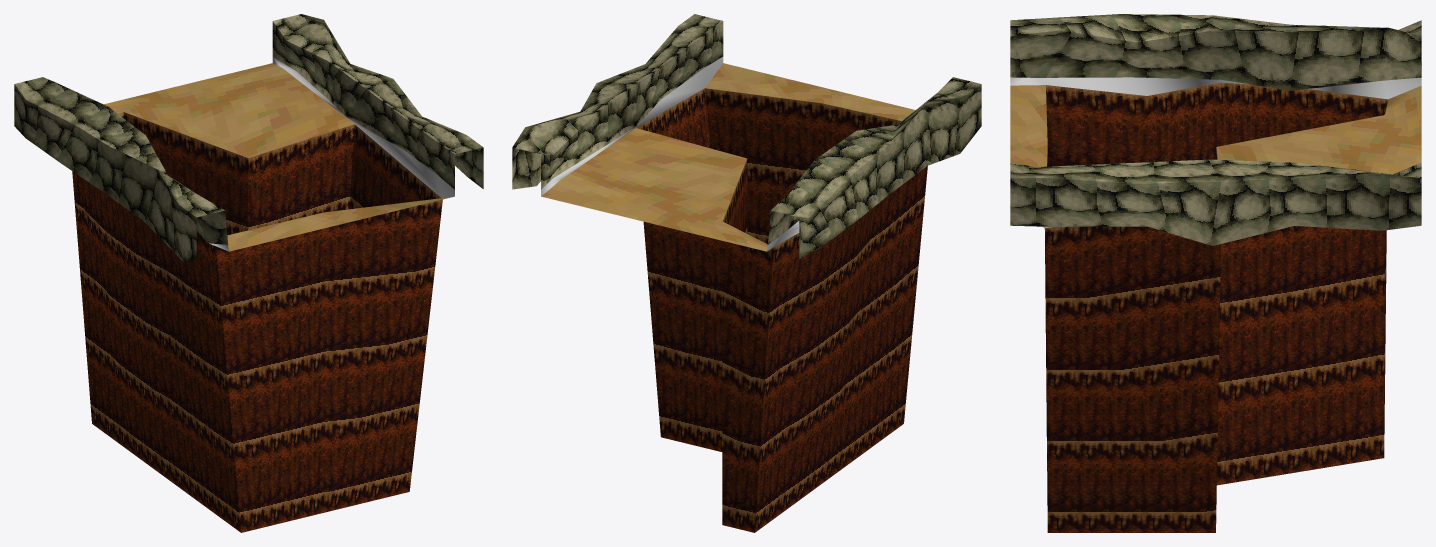
3 views of the same model, side by side, from view 1: azimuth 30°, elevation 25°; view 2: azimuth 150°, elevation 25°; view 3: azimuth 270°, elevation 25° (orthographic). The views are drawn at different scales.
Visible parts, largest first — view 1: tv_t2b0e0v5; view 2: tv_t2b0e0v5; view 3: tv_t2b0e0v5.
Boxes of the visible parts, left/top/right/bottom form: tv_t2b0e0v5: left=14, top=14, right=483, bottom=532; tv_t2b0e0v5: left=512, top=14, right=981, bottom=532; tv_t2b0e0v5: left=1010, top=14, right=1421, bottom=532.
Size of what is drawn, in the model's own units: 10.67 by 11 by 11.74.
